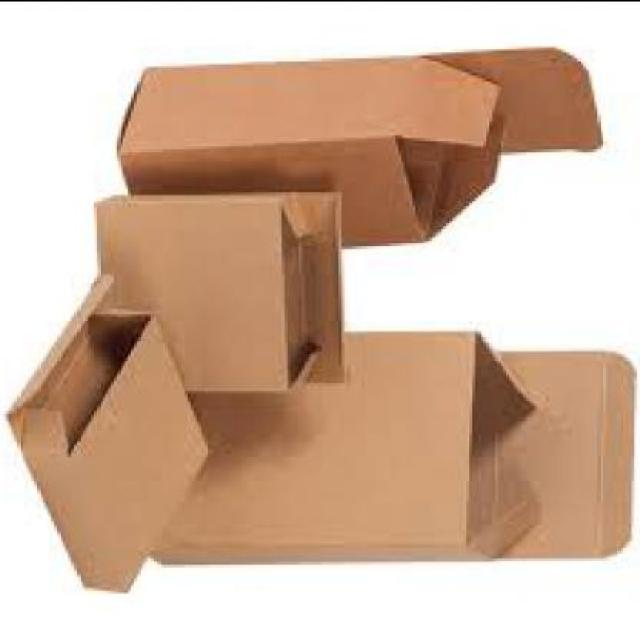CARDBOARD: (144, 320, 638, 562), (122, 42, 606, 242), (3, 268, 214, 589), (94, 182, 349, 390)
